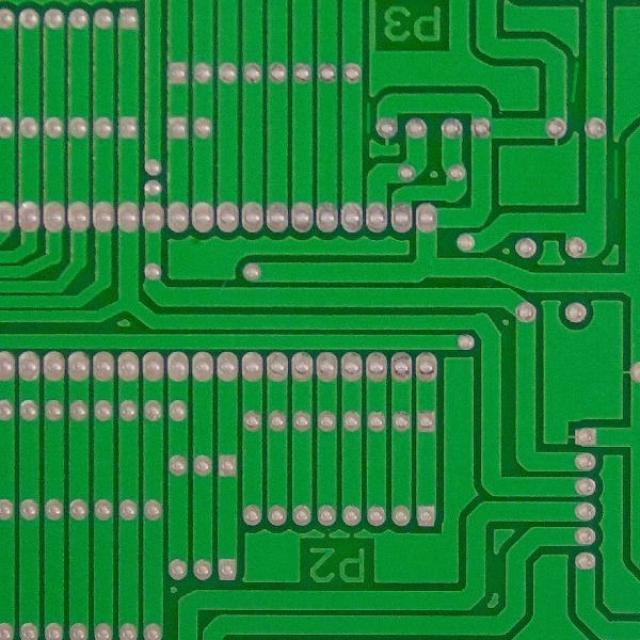spurious_copper: (568, 60, 586, 106), (609, 146, 624, 201), (362, 97, 376, 137)
